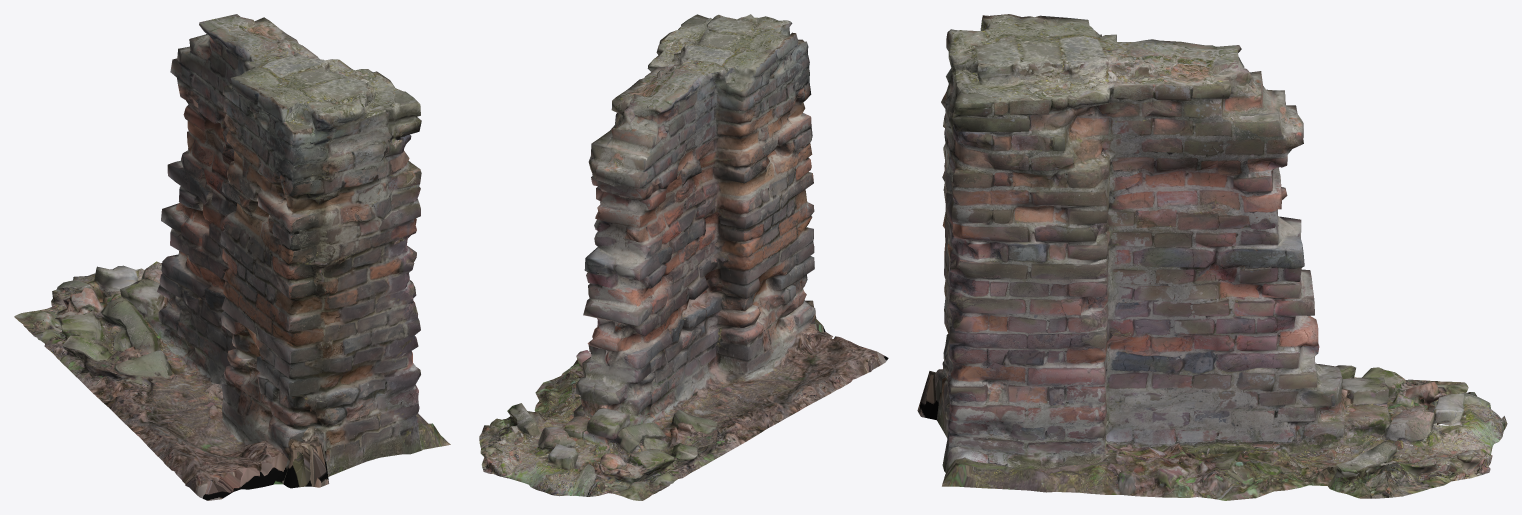
Rendered from SM_Fence_02_02.fbx.
3 renders of one model, left to right at view 1: azimuth 30°, elevation 25°; view 2: azimuth 150°, elevation 25°; view 3: azimuth 270°, elevation 25°, orthographic. The views are drawn at different scales.
Parts seen in each view (by area): view 1: sm_Fence_02_02_LOD0; view 2: sm_Fence_02_02_LOD0; view 3: sm_Fence_02_02_LOD0.
Part boxes in pixels (<box>): sm_Fence_02_02_LOD0: <box>14,14,450,500</box>; sm_Fence_02_02_LOD0: <box>479,14,888,500</box>; sm_Fence_02_02_LOD0: <box>917,14,1507,500</box>.
Size of the model in its own units: 274 by 157 by 204.
